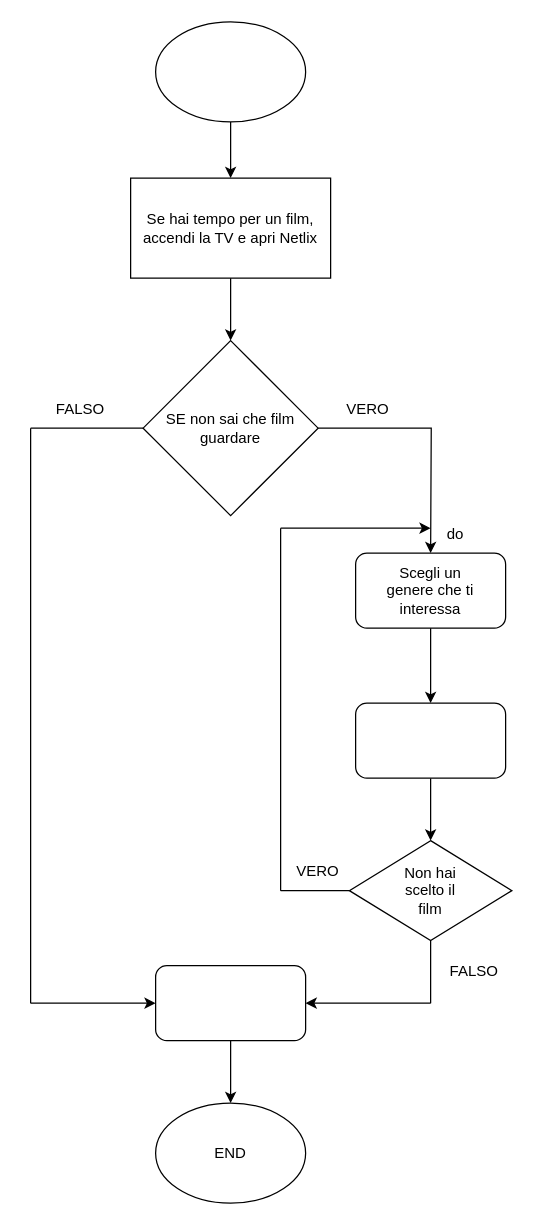
This 534x1225 diagram has some shape labels left out. Here are the shapes that lost their labels. From the top down, the centre of each, then its label:
At (x=230, y=71): "START".
At (x=430, y=740): "Scegli un film che ti convince".
At (x=230, y=1002): "Guarda il film".
